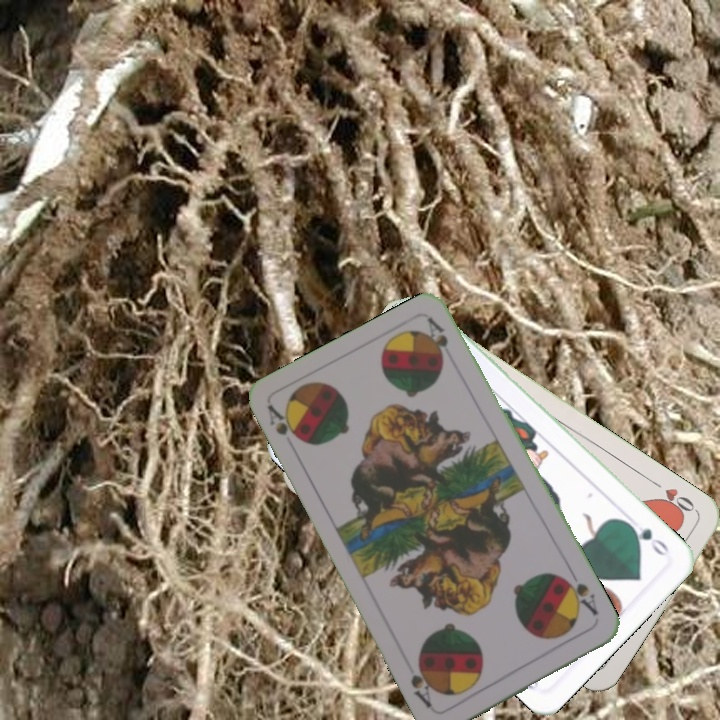GO: (622, 518, 672, 560)
HO: (647, 476, 699, 519)
SA: (559, 569, 601, 619), (263, 401, 307, 447)
